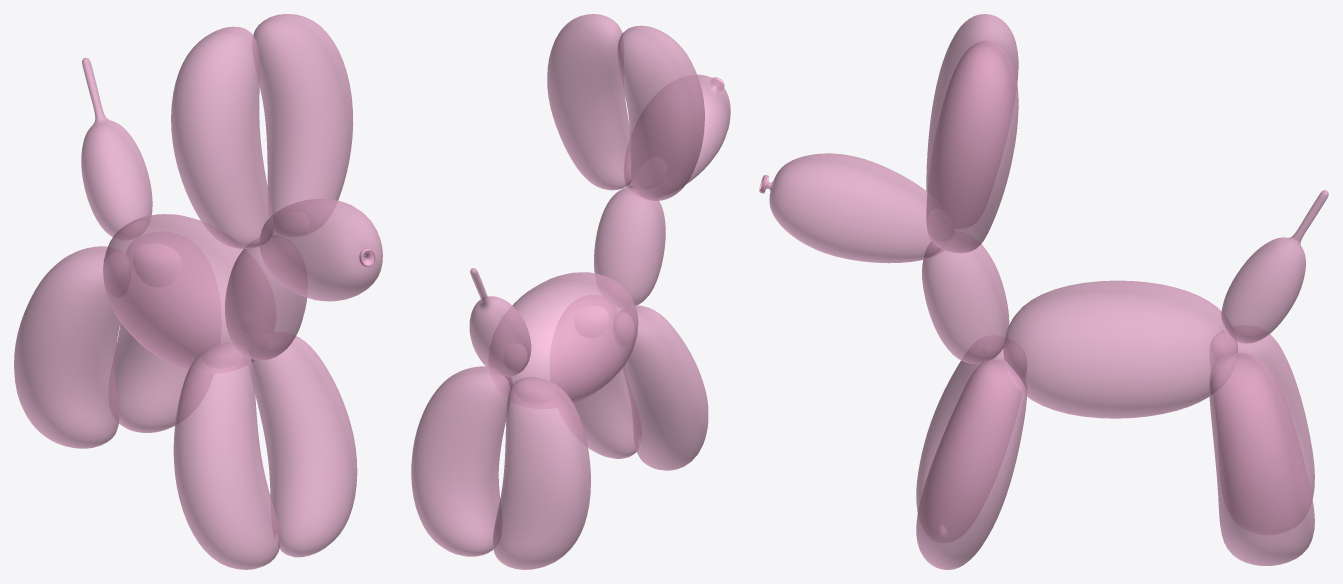
The model's file is Balloon_01.glb.
3 renders of one model, left to right at view 1: azimuth 30°, elevation 25°; view 2: azimuth 150°, elevation 25°; view 3: azimuth 270°, elevation 25°, orthographic. The views are drawn at different scales.
Parts seen in each view (by area): view 1: balloon; view 2: balloon; view 3: balloon.
Boxes of the visible parts, bbox=[...] form: balloon: bbox=[14, 14, 382, 569]; balloon: bbox=[411, 14, 730, 569]; balloon: bbox=[759, 14, 1328, 569].
Size of the model in its own units: 2.63 by 6.76 by 6.7.
